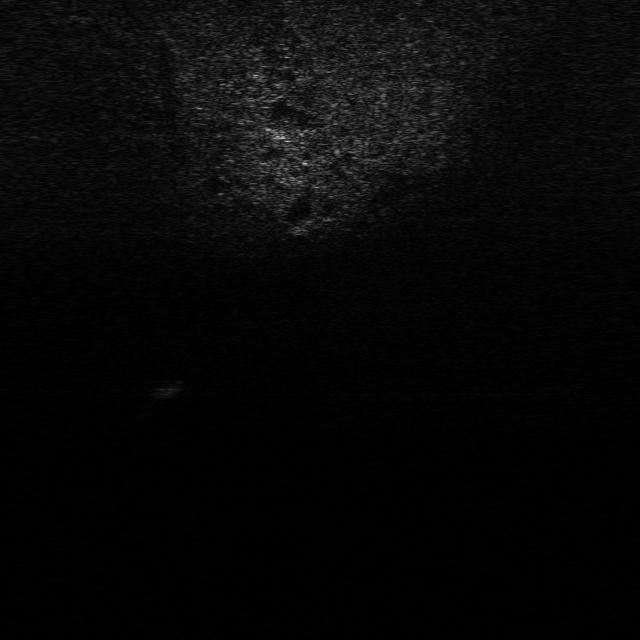cylinder: (151, 371, 188, 402)
